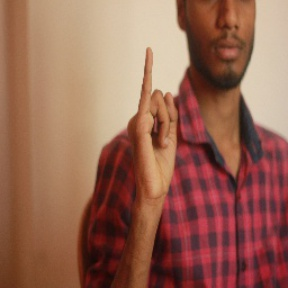I: (130, 50, 182, 187)
